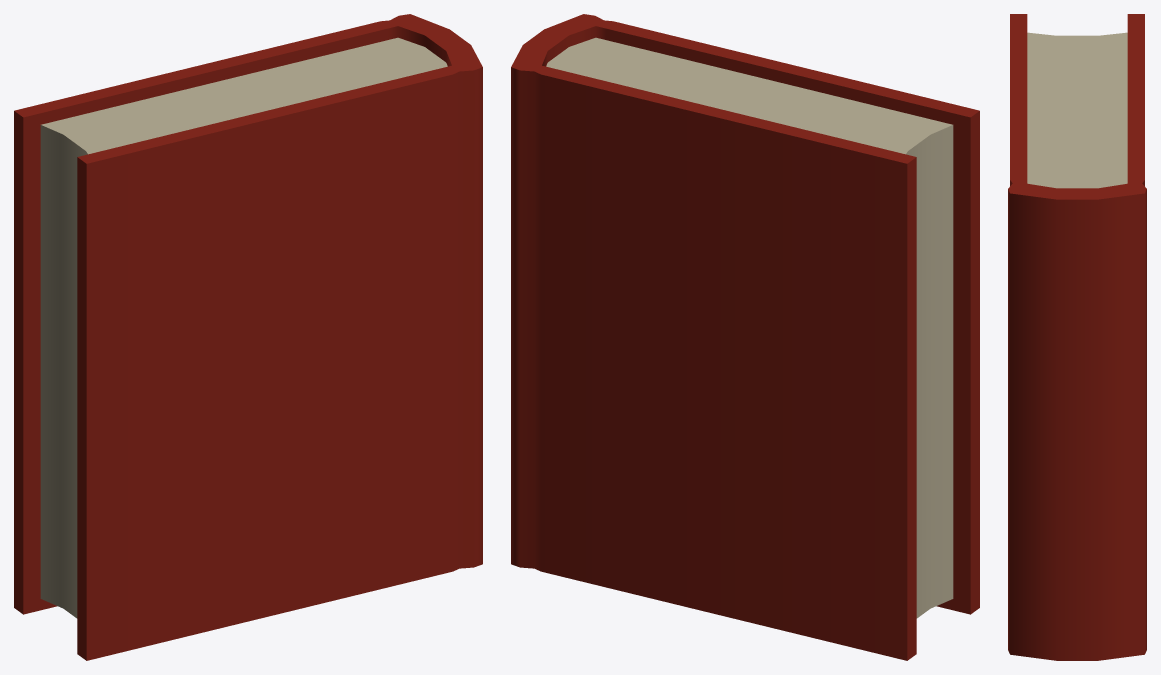
File: Book_DeepRed.glb
The picture shows the model from 3 angles, left to right: view 1: azimuth 30°, elevation 25°; view 2: azimuth 150°, elevation 25°; view 3: azimuth 270°, elevation 25°; orthographic projection. The views are drawn at different scales.
Parts seen in each view (by area): view 1: Book_DeepRed; view 2: Book_DeepRed; view 3: Book_DeepRed.
Part boxes in pixels (left/top/right/bottom): Book_DeepRed: left=14, top=14, right=482, bottom=660; Book_DeepRed: left=511, top=14, right=979, bottom=660; Book_DeepRed: left=1008, top=14, right=1146, bottom=660.
Bounding box in the file's own units: 0.3378 × 0.3913 × 0.1068.
Materials: 2 (2 with a texture image).
